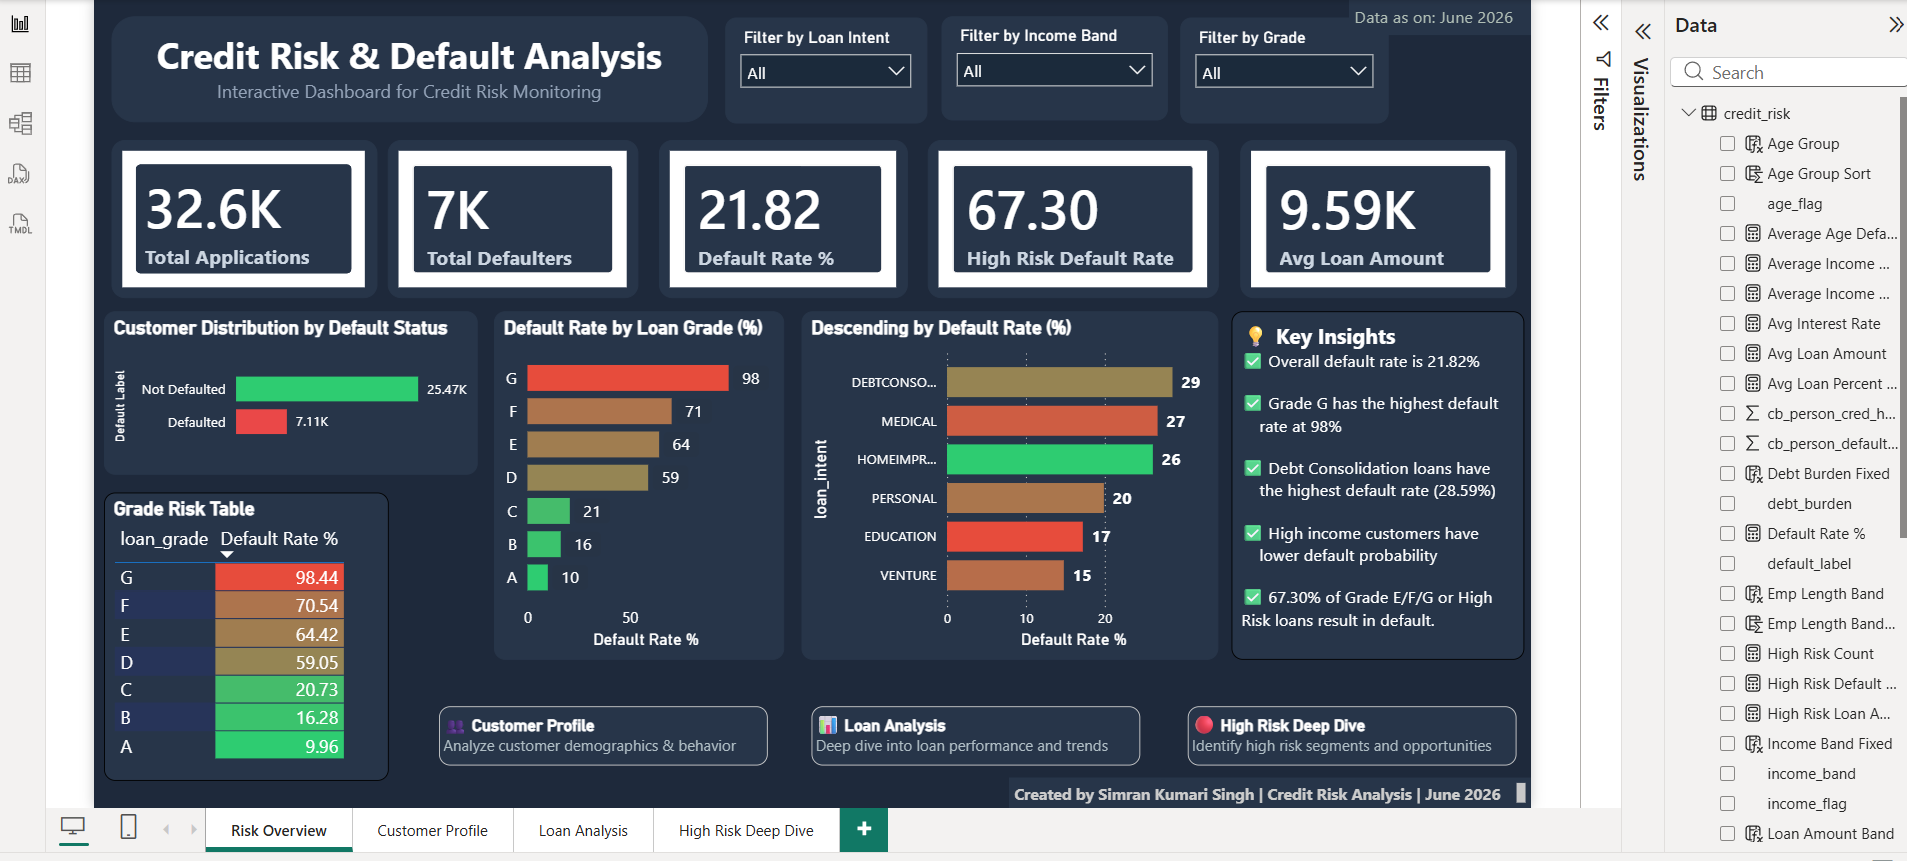

Layout of this report page (visuals, bound fields, positions):
{"tool":"powerbi","page":{"name":"Risk Overview","canvas":[1280,720],"ordinal":0},"visuals":[{"type":"textbox","box":[15.7,14.5,530.8,94.1],"z":0},{"type":"cardVisual","fields":{"Data":["credit_risk.Total Applications"]},"box":[15.7,124.3,236.5,141.2],"z":1000},{"type":"cardVisual","fields":{"Data":["credit_risk.Total Defaulters"]},"box":[261.8,124.3,223.2,141.2],"z":2000},{"type":"cardVisual","fields":{"Data":["credit_risk.Default Rate %"]},"box":[503.1,124.3,222,141.2],"z":3000},{"type":"cardVisual","fields":{"Data":["credit_risk.Avg Loan Amount"]},"box":[1020.6,124.3,246.1,141.2],"z":4000},{"type":"clusteredBarChart","title":"Default Rate by Loan Grade (%)","fields":{"Category":["credit_risk.loan_grade"],"Y":["credit_risk.Default Rate %"]},"box":[355.9,277.5,258.2,310.1],"z":5000},{"type":"barChart","title":"Customer Distribution by Default Status","fields":{"Category":["credit_risk.default_label"],"Y":["credit_risk.Total Applications"]},"box":[8.4,277.5,333,146],"z":6000},{"type":"cardVisual","fields":{"Data":["credit_risk.High Risk Default Rate"]},"box":[742,124.3,259.4,141.2],"z":7000},{"type":"clusteredBarChart","title":"Descending by Default Rate  (%)","fields":{"Category":["credit_risk.loan_intent"],"Y":["credit_risk.Default Rate %"]},"box":[629.8,277.5,371.6,310.1],"z":8000},{"type":"slicer","title":"Filter by Grade","fields":{"Values":["credit_risk.loan_grade"]},"box":[967.6,15.7,185.8,94.1],"z":9000},{"type":"slicer","title":"Filter by Grade","fields":{"Values":["credit_risk.income_band"]},"box":[755.2,14.5,201.5,92.9],"z":10000},{"type":"textbox","box":[1117.2,0,162.9,31.4],"z":11000},{"type":"tableEx","title":"Grade Risk Table","fields":{"Values":["credit_risk.loan_grade","credit_risk.Default Rate %"]},"box":[8.4,439.1,253.4,257],"z":12000},{"type":"textbox","box":[1013.4,277.5,260.6,310.1],"z":13000},{"type":"slicer","title":"Filter by Grade","fields":{"Values":["credit_risk.loan_intent"]},"box":[562.2,15.7,179.8,94.1],"z":14000},{"type":"actionButton","title":"👥 Customer Profile","box":[307.6,628.6,293.2,53.1],"z":15000},{"type":"actionButton","title":"📊 Loan Analysis","box":[639.4,628.6,293.2,53.1],"z":16000},{"type":"actionButton","title":"🔴 High Risk Deep Dive","box":[973.6,628.6,293.2,53.1],"z":17000},{"type":"textbox","box":[815.1,691.9,465.1,27.9],"z":18000}]}

Visuals, with their boxes on the page's 1280x720 design canvas (x1, y1, x2, y2). These are canvas units, not pixel positions in the 1907x861 screenshot, which may show the page scaled, cropped or inside an application window:
textbox: detection(16, 14, 546, 109)
cardVisual - credit_risk.Total Applications: detection(16, 124, 252, 266)
cardVisual - credit_risk.Total Defaulters: detection(262, 124, 485, 266)
cardVisual - credit_risk.Default Rate %: detection(503, 124, 725, 266)
cardVisual - credit_risk.Avg Loan Amount: detection(1021, 124, 1267, 266)
"Default Rate by Loan Grade (%)" clusteredBarChart: detection(356, 278, 614, 588)
"Customer Distribution by Default Status" barChart: detection(8, 278, 341, 424)
cardVisual - credit_risk.High Risk Default Rate: detection(742, 124, 1001, 266)
"Descending by Default Rate  (%)" clusteredBarChart: detection(630, 278, 1001, 588)
"Filter by Grade" slicer: detection(968, 16, 1153, 110)
"Filter by Grade" slicer: detection(755, 14, 957, 107)
textbox: detection(1117, 0, 1280, 31)
"Grade Risk Table" tableEx: detection(8, 439, 262, 696)
textbox: detection(1013, 278, 1274, 588)
"Filter by Grade" slicer: detection(562, 16, 742, 110)
"👥 Customer Profile" actionButton: detection(308, 629, 601, 682)
"📊 Loan Analysis" actionButton: detection(639, 629, 933, 682)
"🔴 High Risk Deep Dive" actionButton: detection(974, 629, 1267, 682)
textbox: detection(815, 692, 1280, 720)
